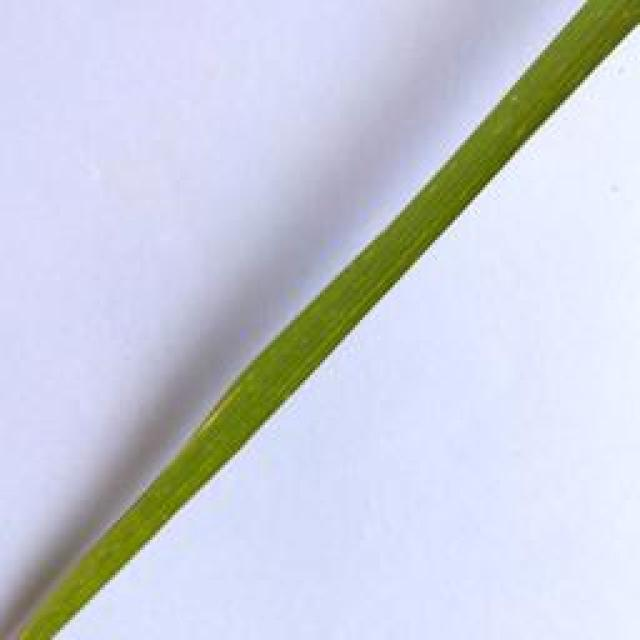Healthy-Plant: (250, 0, 638, 370), (0, 442, 252, 639)
